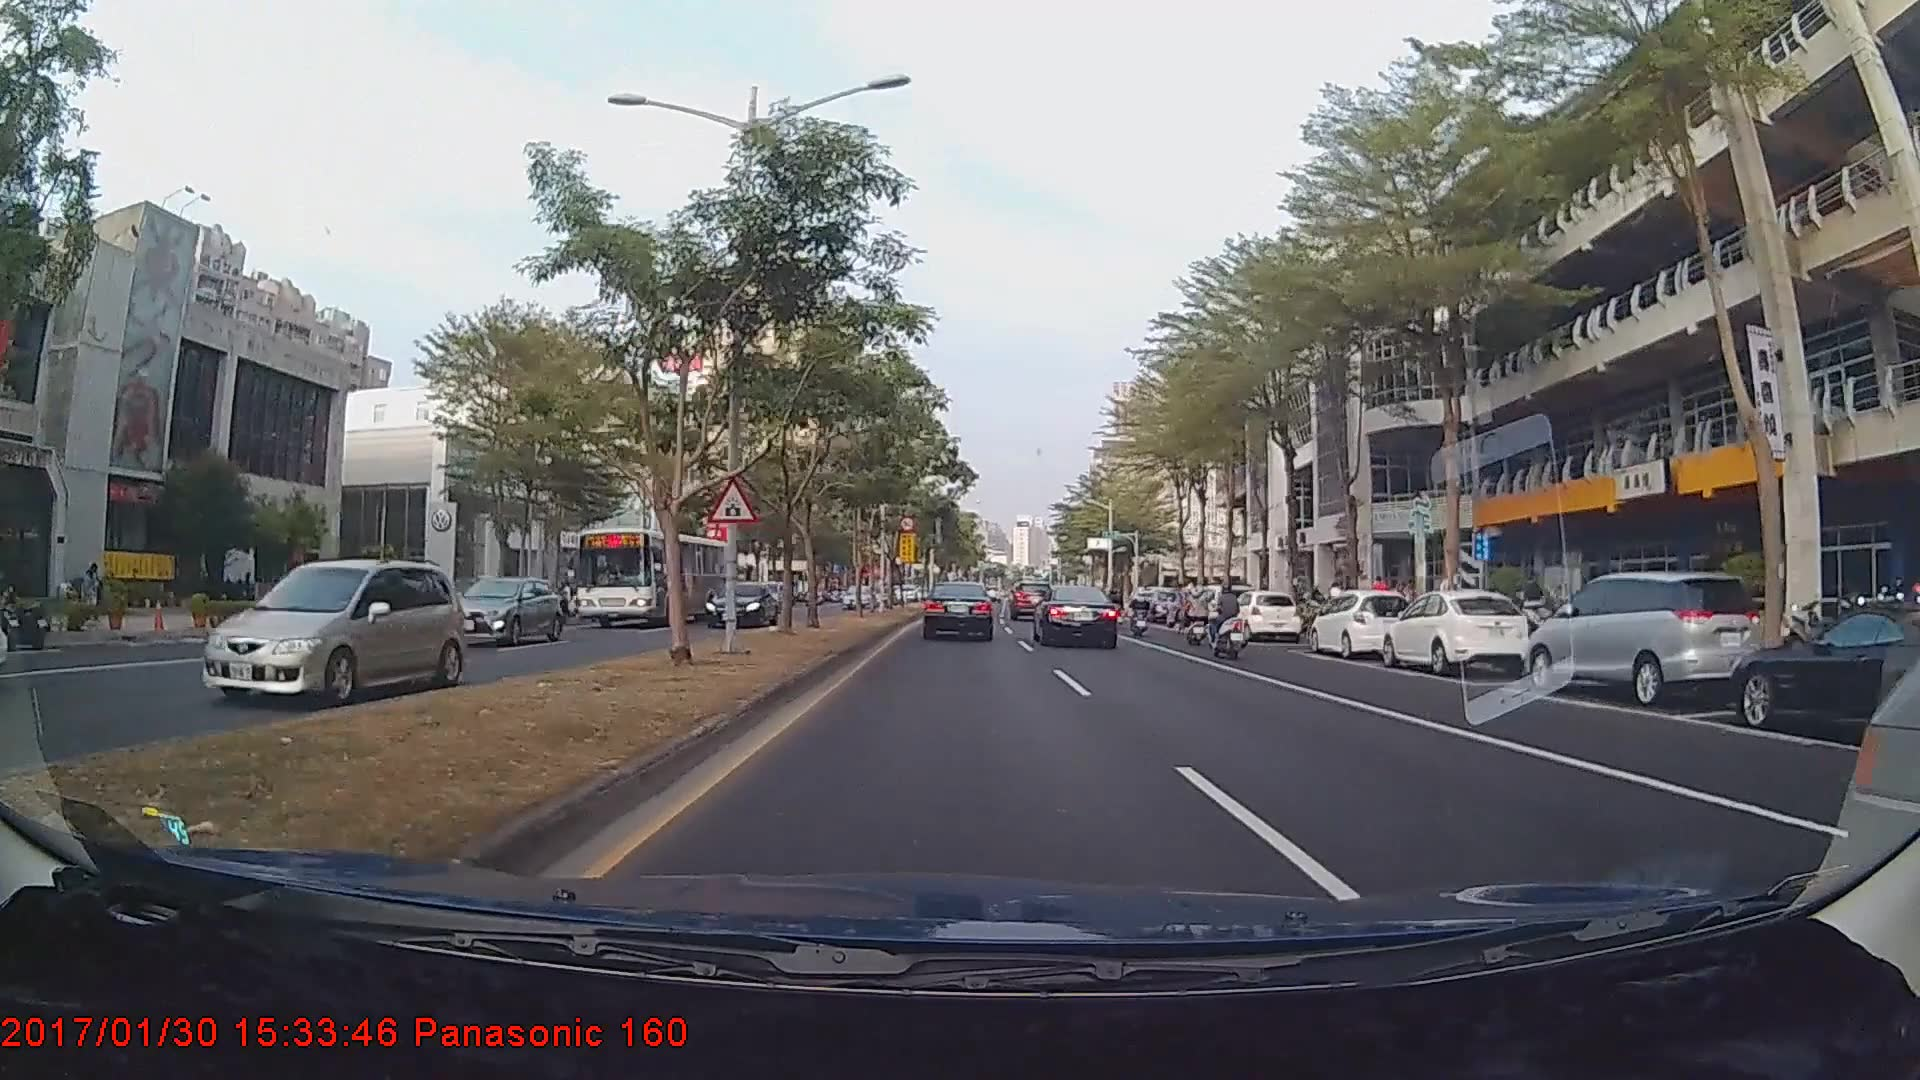rider: (1204, 582, 1254, 664), (1178, 590, 1219, 647), (1127, 586, 1153, 640)
vehicle: (198, 559, 470, 706), (1519, 568, 1762, 706), (1723, 598, 1920, 750), (571, 525, 734, 627), (1378, 589, 1530, 674), (441, 578, 559, 649), (1307, 588, 1417, 659), (1036, 585, 1119, 649), (920, 579, 996, 641), (1223, 589, 1303, 642), (1178, 581, 1256, 631), (702, 580, 779, 627), (1008, 585, 1050, 623), (839, 583, 875, 609)
